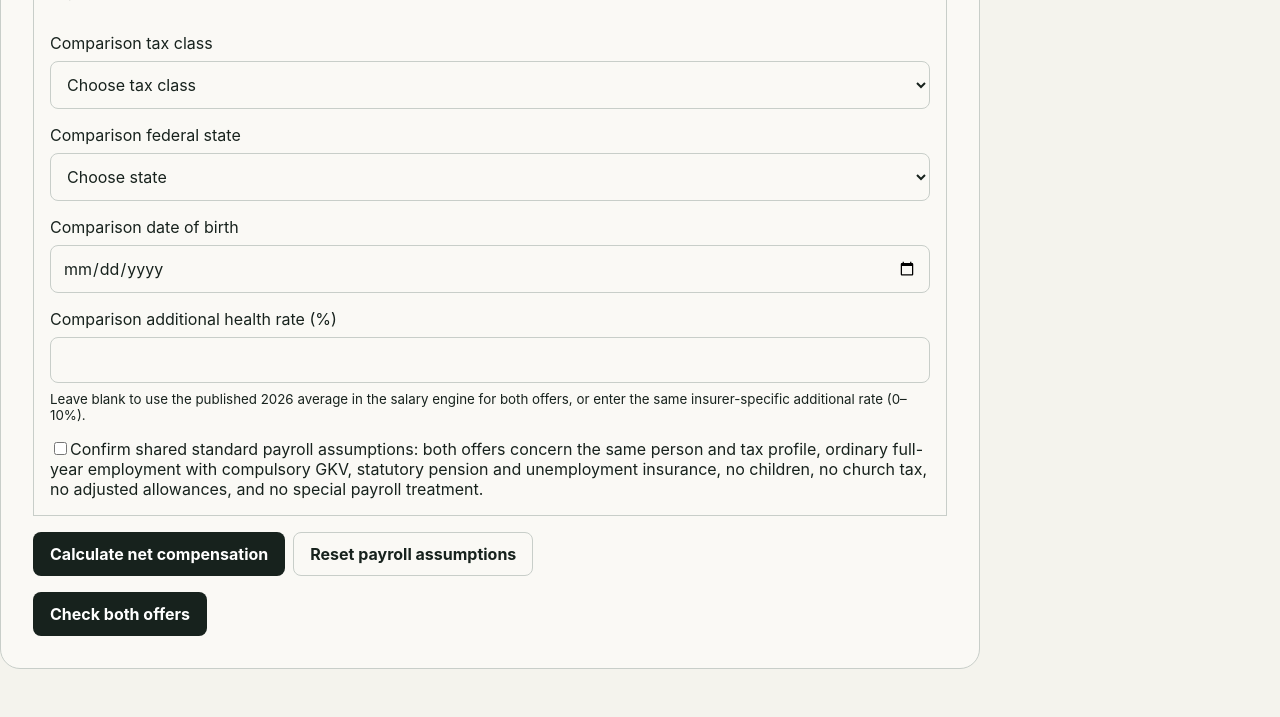
Test case: NP-CMP-002 offer salary inputs › shows two field-specific missing-input messages
The width and height of the screenshot is (1280, 717).
(page scrolled)
Click the button "Check both offers" at (120, 614), box 33,592 -> 207,636
(page scrolled)
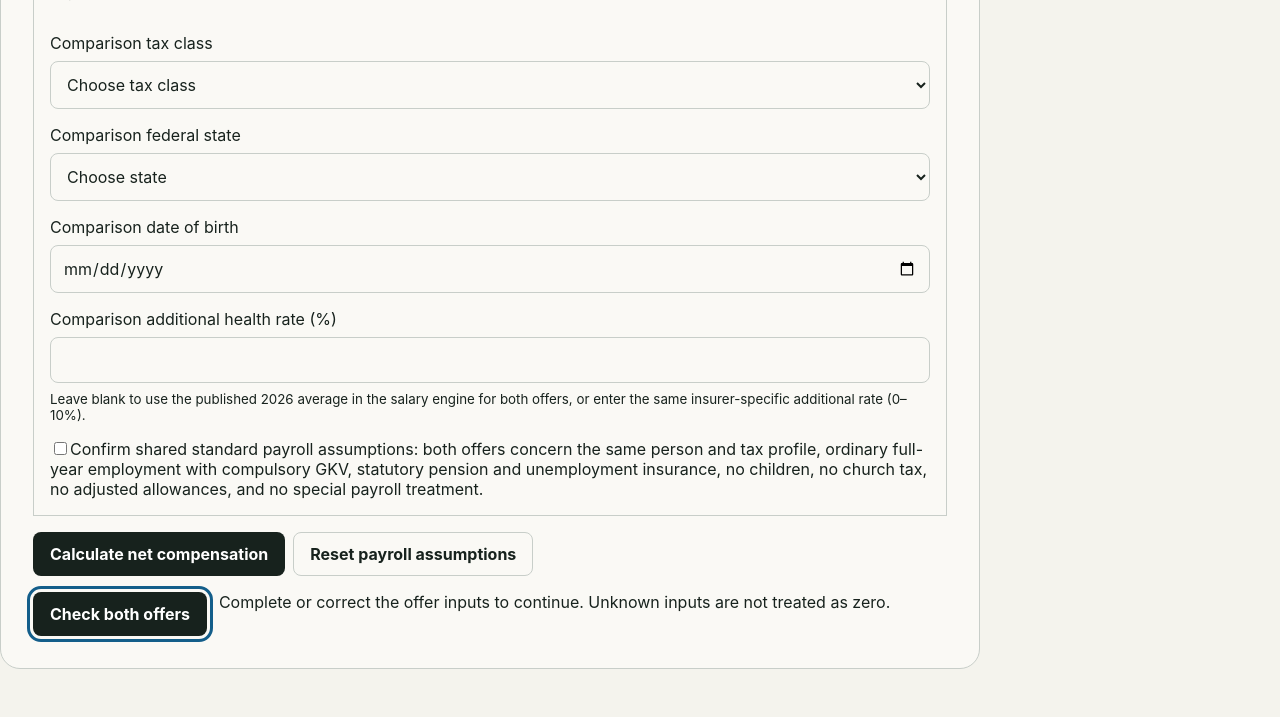
expect the message shows "Unknown inputs": met, box 219,592 -> 890,612
